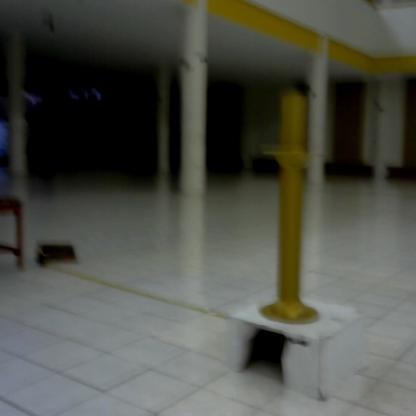pole: (260, 89, 327, 335)
